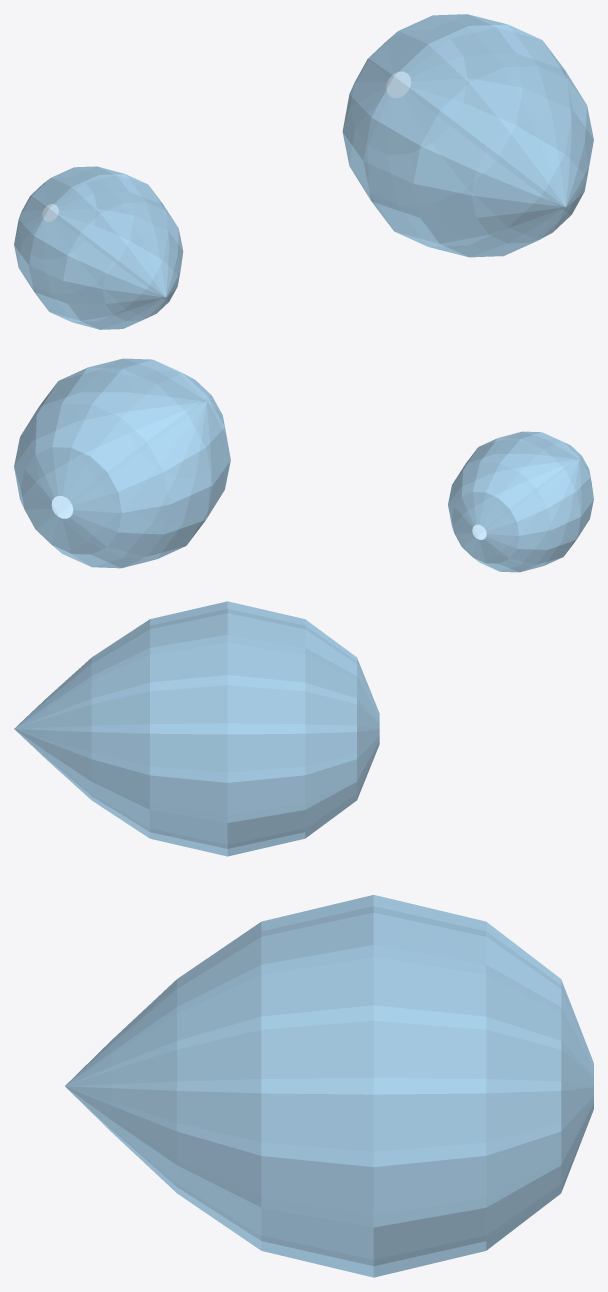
Rendered from gotas.fbx.
3 renders of one model, top to bottom at view 1: azimuth 30°, elevation 25°; view 2: azimuth 150°, elevation 25°; view 3: azimuth 270°, elevation 25°, orthographic. The views are drawn at different scales.
Visible parts, largest first — view 1: Gota_Pequena_01, Gota_Pequena_02; view 2: Gota_Pequena_01, Gota_Pequena_02; view 3: Gota_Pequena_01, Gota_Pequena_02.
Part boxes in pixels (x1,y1,x2,y2): Gota_Pequena_01: (342,14,593,257); Gota_Pequena_02: (14,166,183,329); Gota_Pequena_01: (14,358,230,568); Gota_Pequena_02: (448,431,593,572); Gota_Pequena_01: (65,895,593,1277); Gota_Pequena_02: (14,601,379,856).
Bounding box in the file's own units: 127 × 45 × 68.1.
